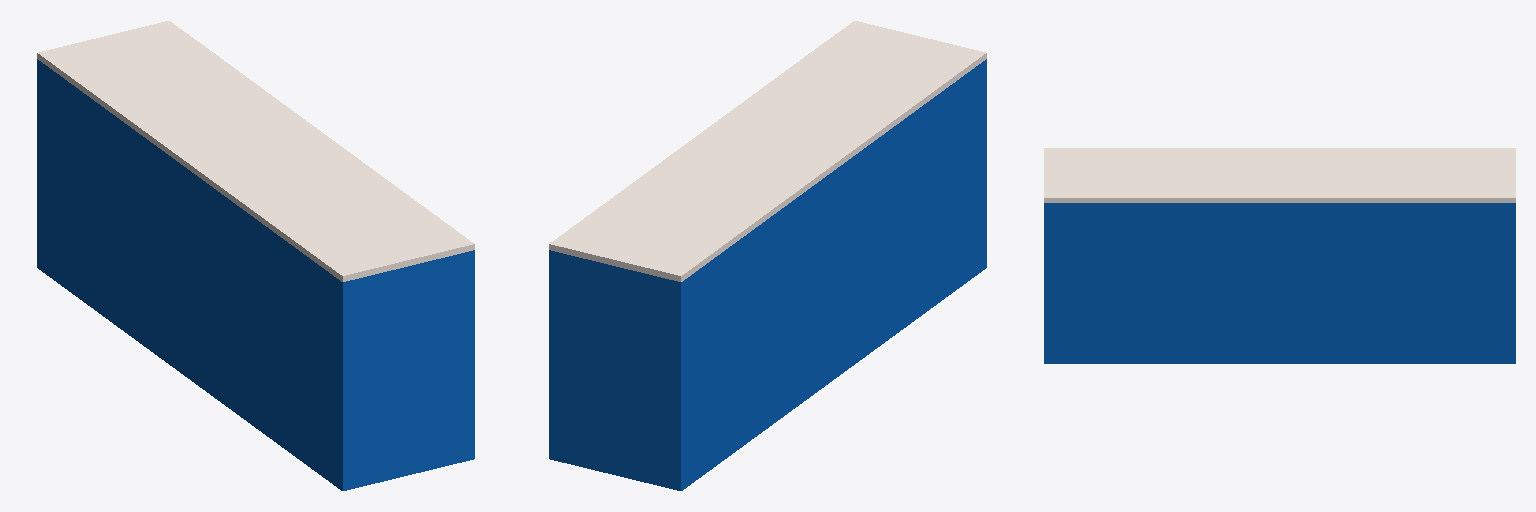
robot.urdf — toyama-1800-sidetable:
<?xml version="1.0"?>
<robot name="toyama-1800-sidetable"
       xmlns:xi="http://www.w3.org/2001/XInclude"
       xmlns:gazebo="http://playerstage.sourceforge.net/gazebo/xmlschema/#gz"
       xmlns:model="http://playerstage.sourceforge.net/gazebo/xmlschema/#model"
       xmlns:sensor="http://playerstage.sourceforge.net/gazebo/xmlschema/#sensor"
       xmlns:body="http://playerstage.sourceforge.net/gazebo/xmlschema/#body"
       xmlns:geom="http://playerstage.sourceforge.net/gazebo/xmlschema/#geom"
       xmlns:joint="http://playerstage.sourceforge.net/gazebo/xmlschema/#joint"
       xmlns:interface="http://playerstage.sourceforge.net/gazebo/xmlschema/#interface"
       xmlns:rendering="http://playerstage.sourceforge.net/gazebo/xmlschema/#rendering"
       xmlns:renderable="http://playerstage.sourceforge.net/gazebo/xmlschema/#renderable"
       xmlns:controller="http://playerstage.sourceforge.net/gazebo/xmlschema/#controller"
       xmlns:physics="http://playerstage.sourceforge.net/gazebo/xmlschema/#physics">
  <gazebo>
    <static>false</static>
  </gazebo>
  <link name="nil_link">
    <visual>
      <origin xyz="0 0 0" rpy="0 -0 0"/>
      <geometry>
        <mesh filename="model://toyama-1800-sidetable/meshes/nil_link_mesh.dae" scale="1 1 1" />
      </geometry>
    </visual>
    <collision>
      <origin xyz="0 0 0" rpy="0 -0 0"/>
      <geometry>
        <mesh filename="model://toyama-1800-sidetable/meshes/nil_link_mesh.dae" scale="1 1 1" />
      </geometry>
    </collision>
    <inertial>
      <mass value="0.001" />
      <origin xyz="0 0 0" rpy="0 -0 0"/>
      <inertia ixx="1e-09" ixy="0" ixz="0" iyy="1e-09" iyz="0" izz="1e-09"/>
    </inertial>
  </link>
  <gazebo reference="nil_link">
    <mu1>0.9</mu1>
    <mu2>0.9</mu2>
  </gazebo>
</robot>

--- Facts derived from the render (not from the file) ---
3 views of the same robot in one strip: view 1: azimuth 30°, elevation 25°; view 2: azimuth 150°, elevation 25°; view 3: azimuth 270°, elevation 25° (orthographic).
Robot: toyama-1800-sidetable — 1 links, 0 joints (none); root link nil_link; default pose: every joint at zero.
Visible links, largest first — view 1: nil_link; view 2: nil_link; view 3: nil_link.
Boxes of the visible links, bbox=[...] form: nil_link: bbox=[37, 21, 474, 490]; nil_link: bbox=[549, 21, 986, 490]; nil_link: bbox=[1044, 148, 1515, 363].
Bounding box of the posed robot: 0.45 × 1.8 × 0.7 m (x, y, z).
1 mesh visuals loaded from 1 distinct referenced files (1 Collada DAE).
